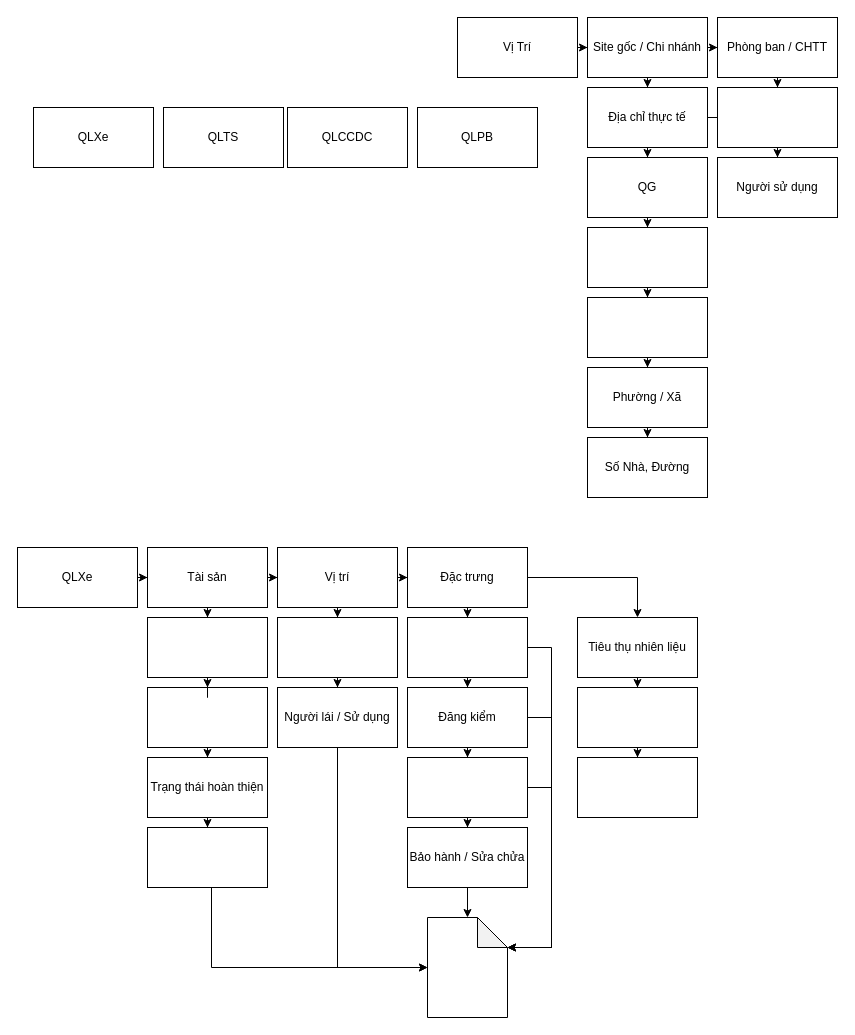
The diagram is 855 pixels wide and 1035 high, and some of its shapes have lost their labels. The centre of each missing label's shape, as x and y in pixels:
Bảo hiểm: pixel 467 787
Chi nhánh: pixel 337 647
Giá mua: pixel 207 717
Lịch sử: pixel 467 967
Ngày mua: pixel 207 647
Niên hạn: pixel 637 717
Quận / Huyện: pixel 647 327
Trạng thái sử dụng: pixel 207 857
Tỉnh / TP: pixel 647 257
Đăng ký: pixel 467 647
Địa chỉ thực tế / Trực thuộc: pixel 777 117
